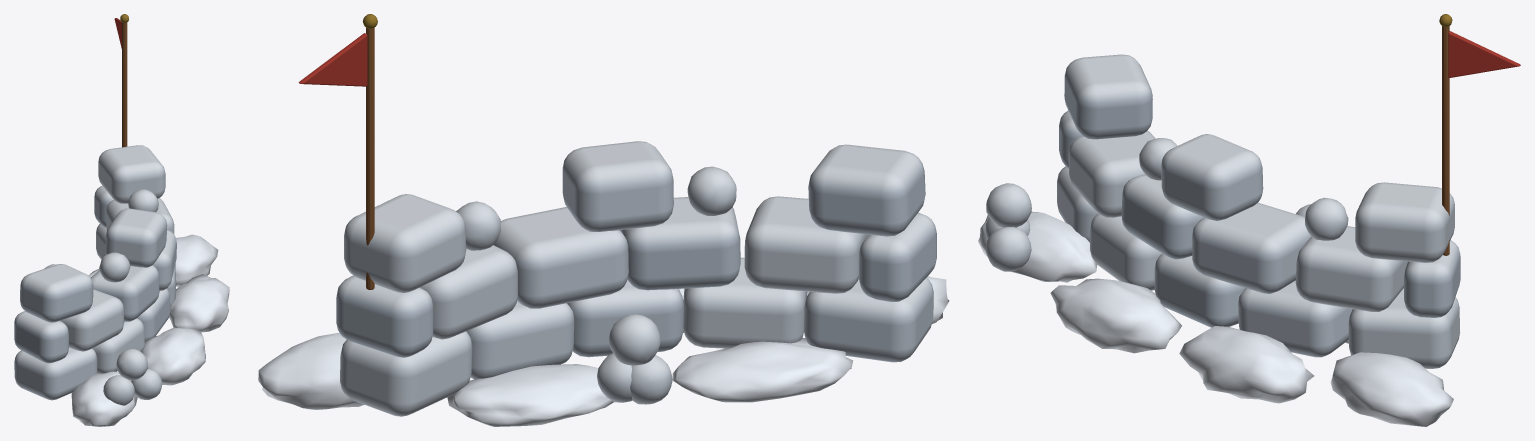
Rendered from snow_fort.glb.
3 renders of one model, left to right at view 1: azimuth 30°, elevation 25°; view 2: azimuth 150°, elevation 25°; view 3: azimuth 270°, elevation 25°, orthographic. The views are drawn at different scales.
Visible parts, largest first — view 1: ammo; view 2: ammo; view 3: ammo.
Part boxes in pixels (x1,y1,x2,y2): ammo: (14, 14, 229, 426); ammo: (258, 14, 949, 426); ammo: (978, 14, 1520, 426).
Bounding box in the file's own units: 1.91 × 1.6 × 2.1.
1 material, 1 textured.
